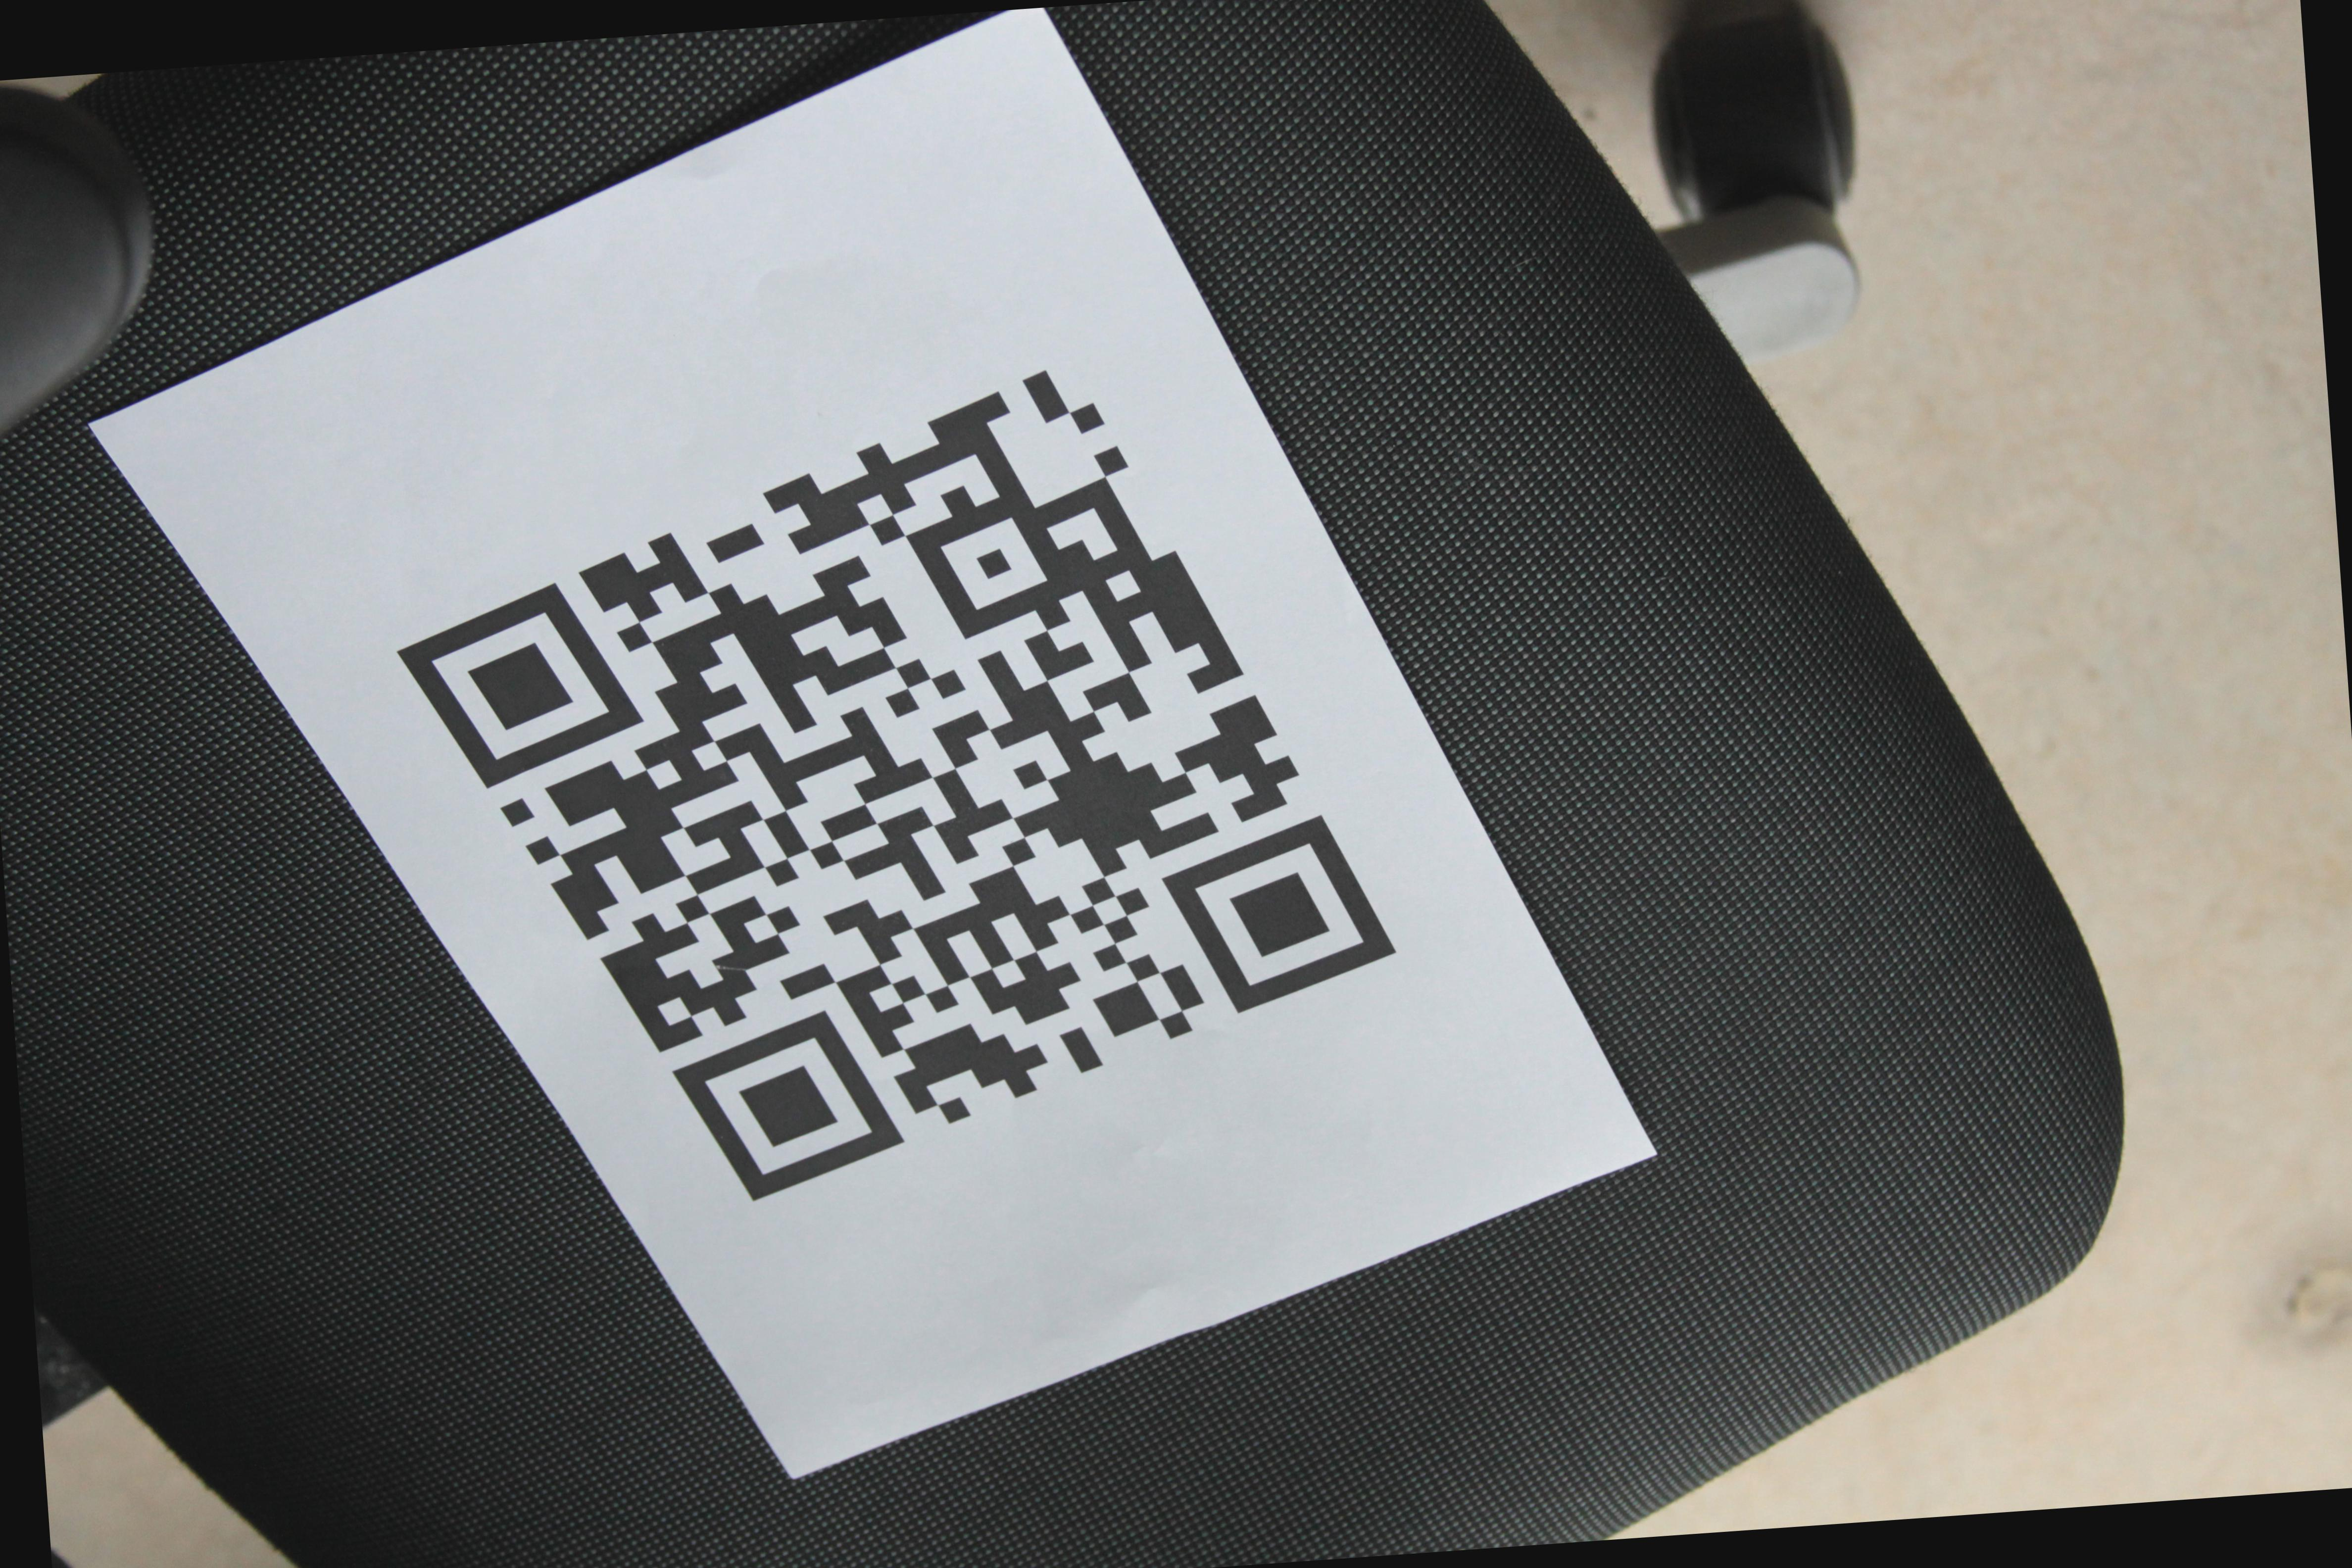QR: (395, 366, 1407, 1207)
